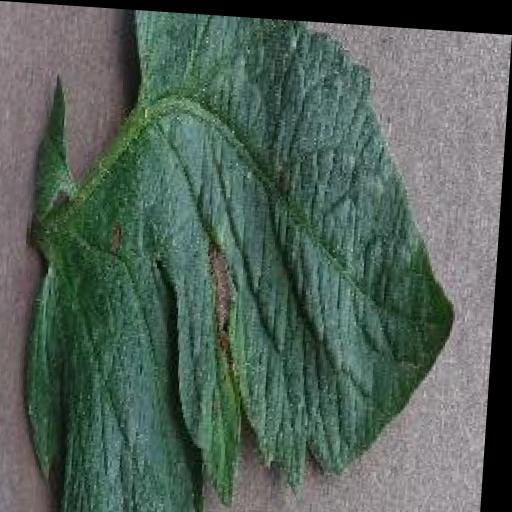Early Blight: (15, 2, 474, 512)
